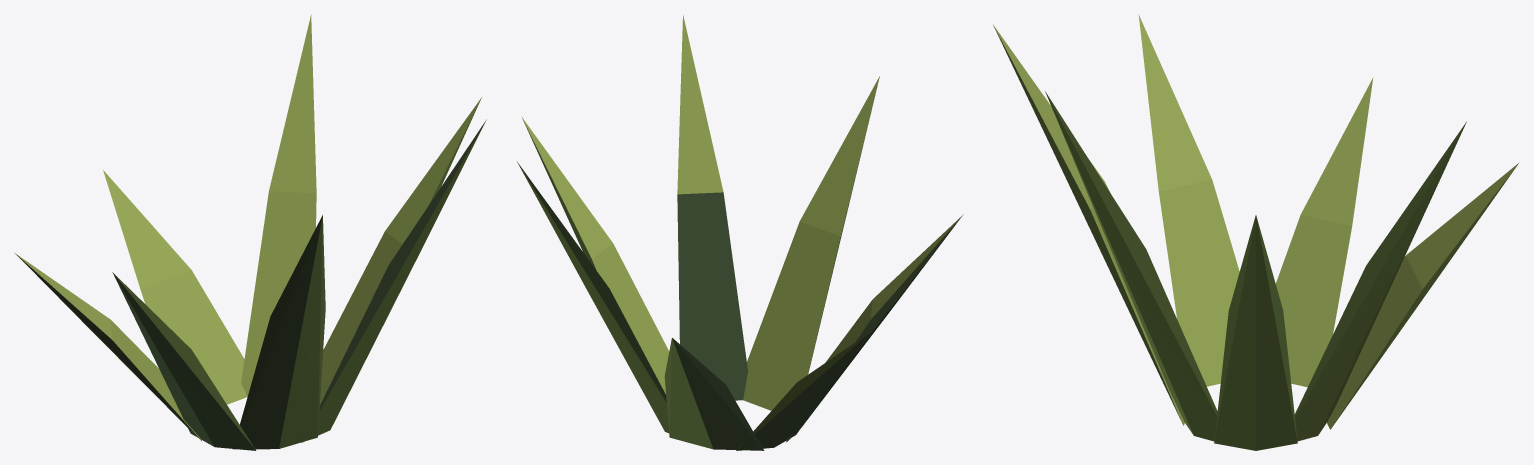
Rendered from TW_GRASS_TUFT_A_LOD0.glb.
3 renders of one model, left to right at view 1: azimuth 30°, elevation 25°; view 2: azimuth 150°, elevation 25°; view 3: azimuth 270°, elevation 25°, orthographic. The views are drawn at different scales.
Parts seen in each view (by area): view 1: TW_GRASS_TUFT_A_LOD0; view 2: TW_GRASS_TUFT_A_LOD0; view 3: TW_GRASS_TUFT_A_LOD0.
Boxes of the visible parts, x1,y1,x2,y2 form: TW_GRASS_TUFT_A_LOD0: (15,14,486,450); TW_GRASS_TUFT_A_LOD0: (517,15,963,450); TW_GRASS_TUFT_A_LOD0: (993,15,1519,450).
Size of the model in its own units: 0.55 by 0.42 by 0.5.
1 material, 1 textured.
